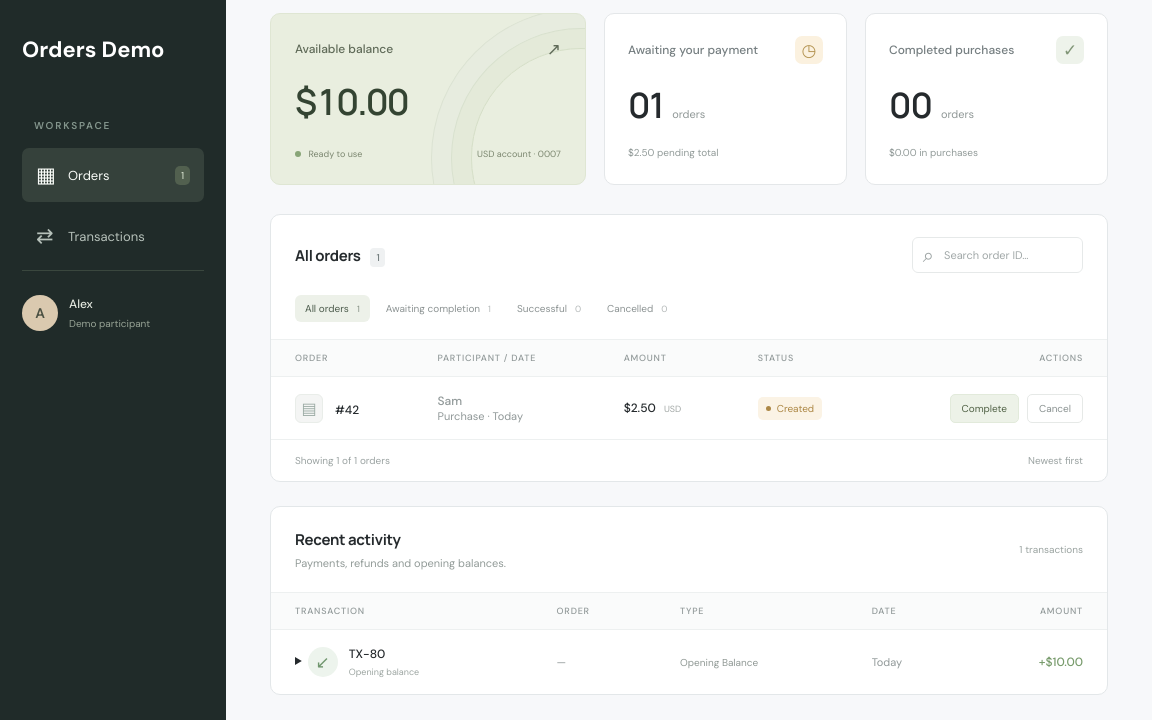
Test: shows opening funds without an order and exposes both entries
The image size is (1152, 720).
(page scrolled)
Expected: the text "+$10.00" is shown, x1=967 y1=630 x2=1107 y2=694
Click the text "TX-80". click: (367, 654)
box: x1=349 y1=646 x2=385 y2=662
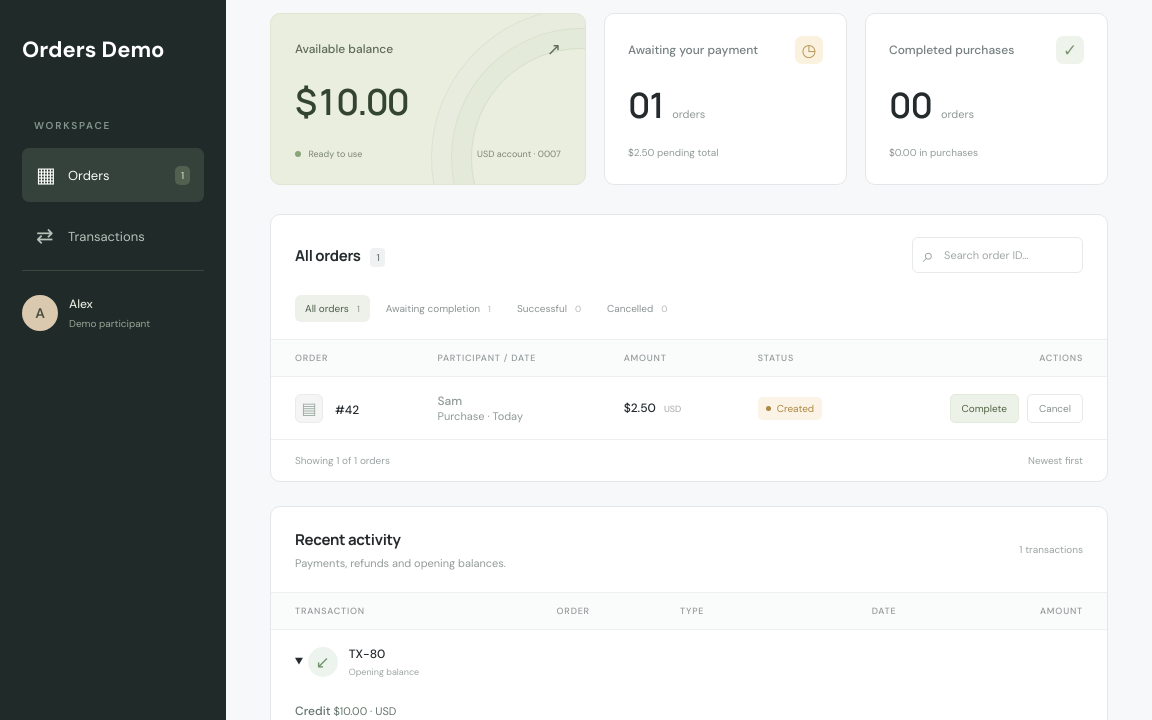
Now the text "credit" is shown, box x1=295 y1=703 x2=330 y2=719
